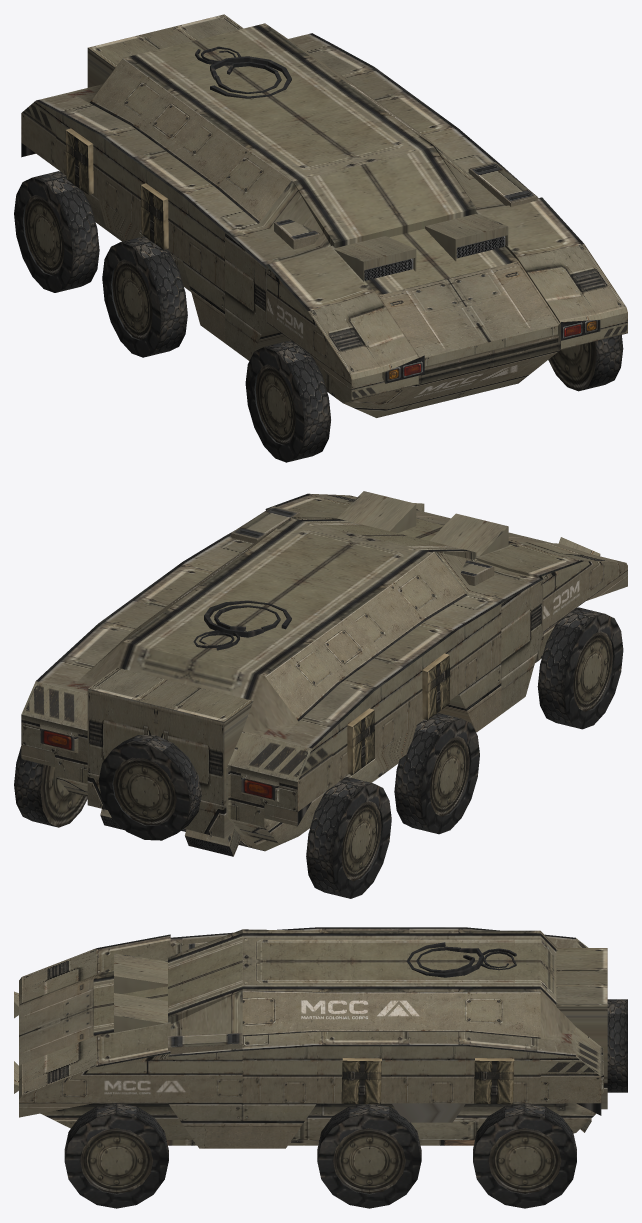
The model's file is glyptodon.dae.
3 renders of one model, top to bottom at view 1: azimuth 30°, elevation 25°; view 2: azimuth 150°, elevation 25°; view 3: azimuth 270°, elevation 25°, orthographic. The views are drawn at different scales.
Parts seen in each view (by area): view 1: glyptodon; view 2: glyptodon; view 3: glyptodon.
Part boxes in pixels (x1=…): glyptodon: x1=14, y1=14, x2=627, y2=462; glyptodon: x1=14, y1=491, x2=627, y2=898; glyptodon: x1=14, y1=927, x2=627, y2=1208.
Size of the model in its own units: 9.8 by 18.56 by 6.14.
